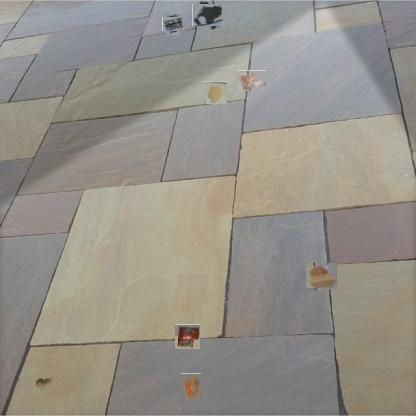dirty: (306, 262, 338, 290), (174, 324, 200, 349), (236, 70, 266, 91), (179, 375, 204, 400), (31, 374, 55, 392), (164, 16, 182, 33)
liquid: (195, 2, 221, 29), (206, 81, 228, 104)
